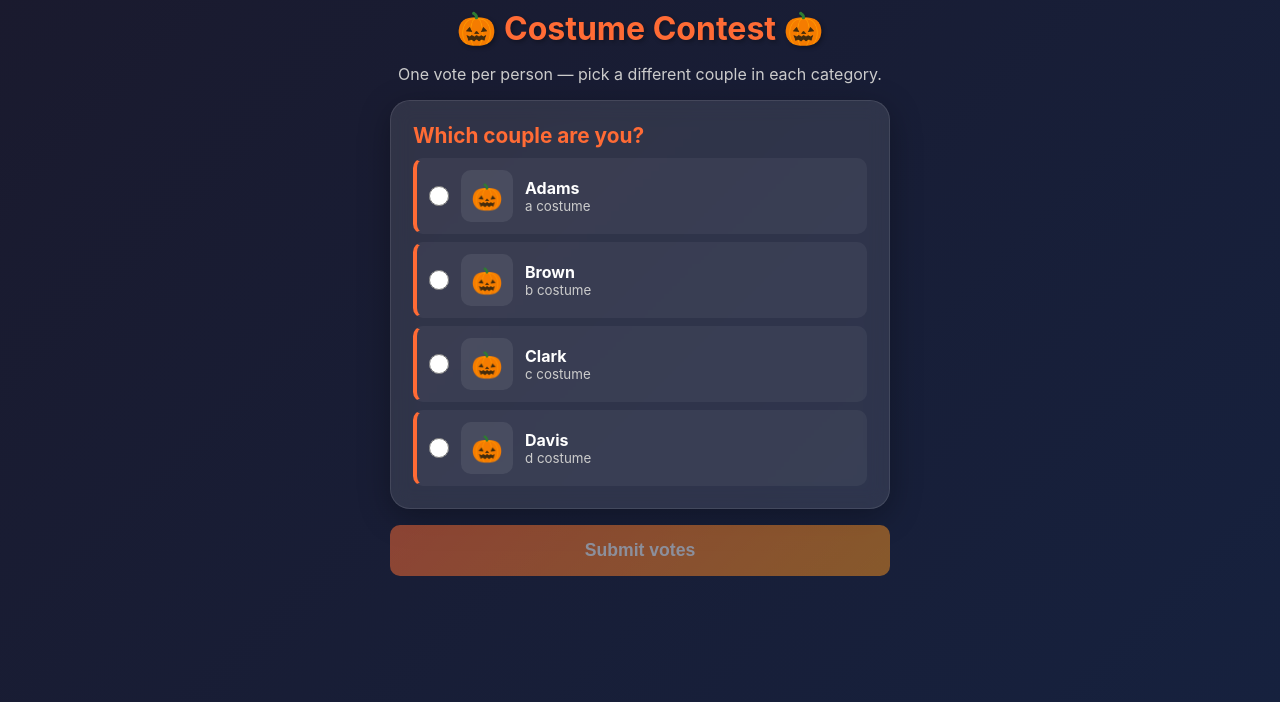
Scenario: Vote form › clears a pick when it is tapped again, freeing the couple elsewhere
The width and height of the screenshot is (1280, 702).
Click the radio button labelled "🎃 Brown b costume" at (439, 280), box [429,270,449,290]
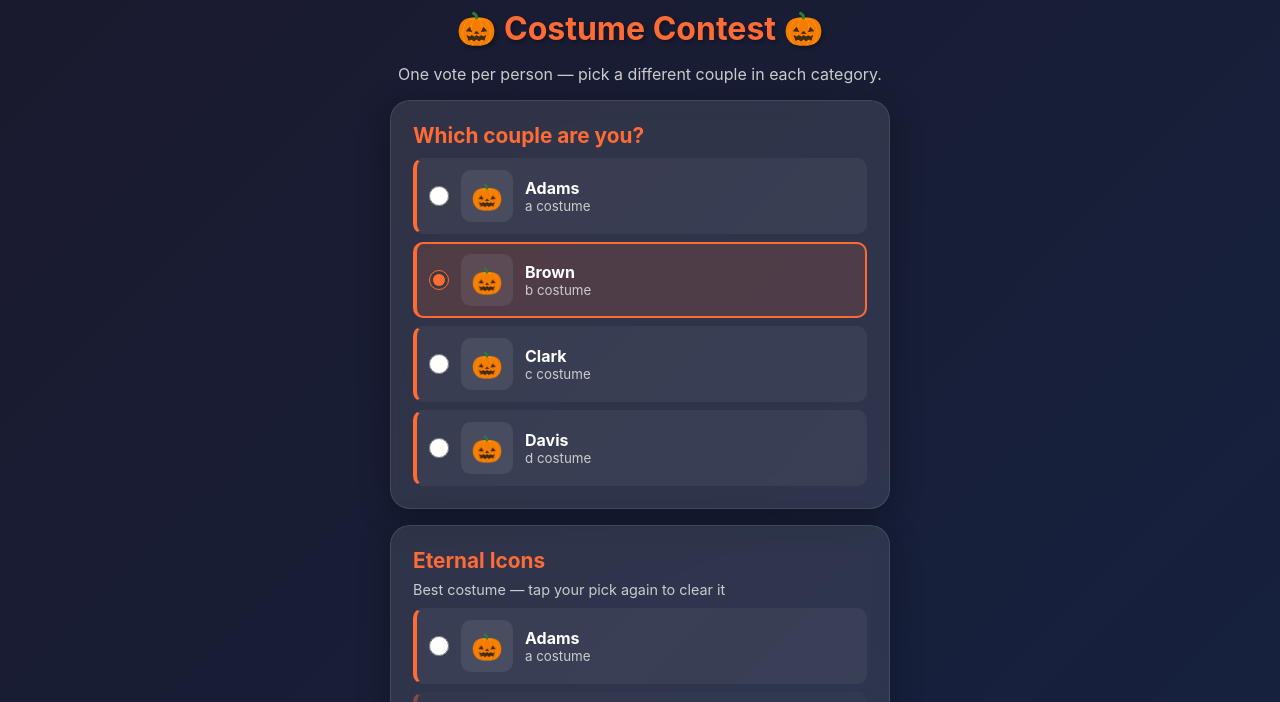
Click the radio button labelled "🎃 Adams a costume" below "Best costume" at (439, 646), box [429,636,449,656]
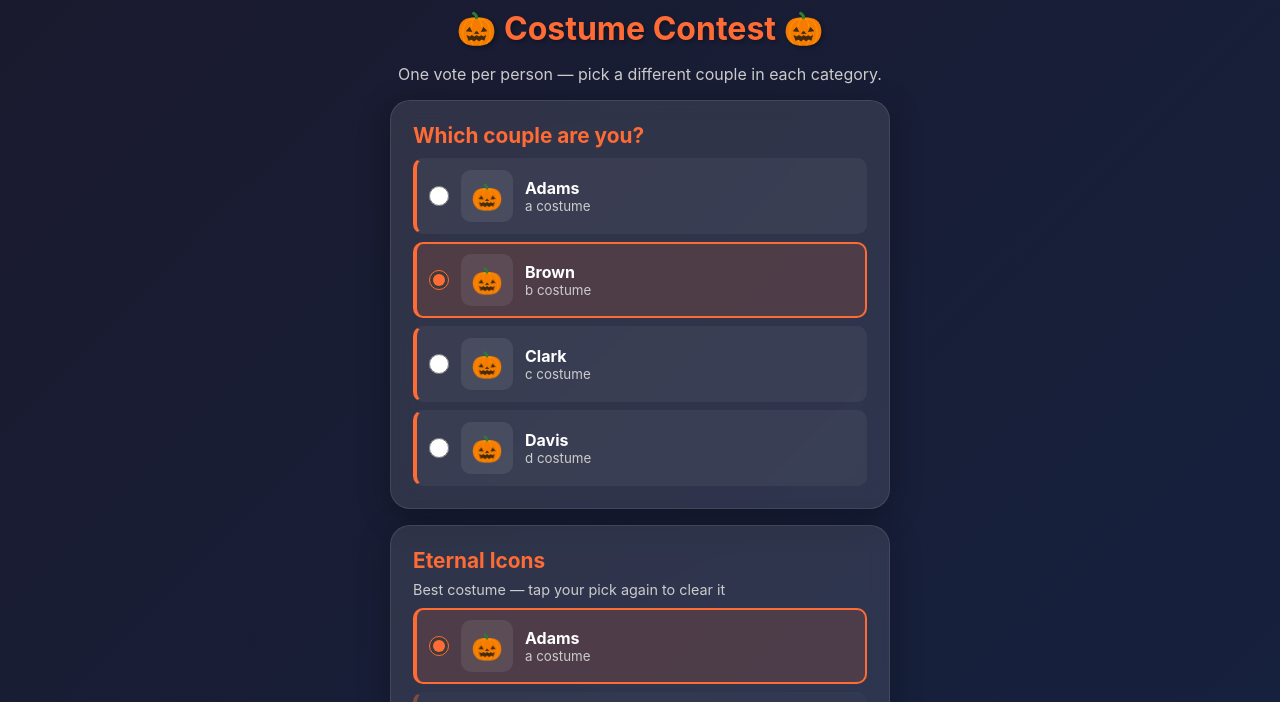
Click the radio button labelled "🎃 Adams a costume" below "Best costume" at (439, 646), box [429,636,449,656]
(page scrolled)
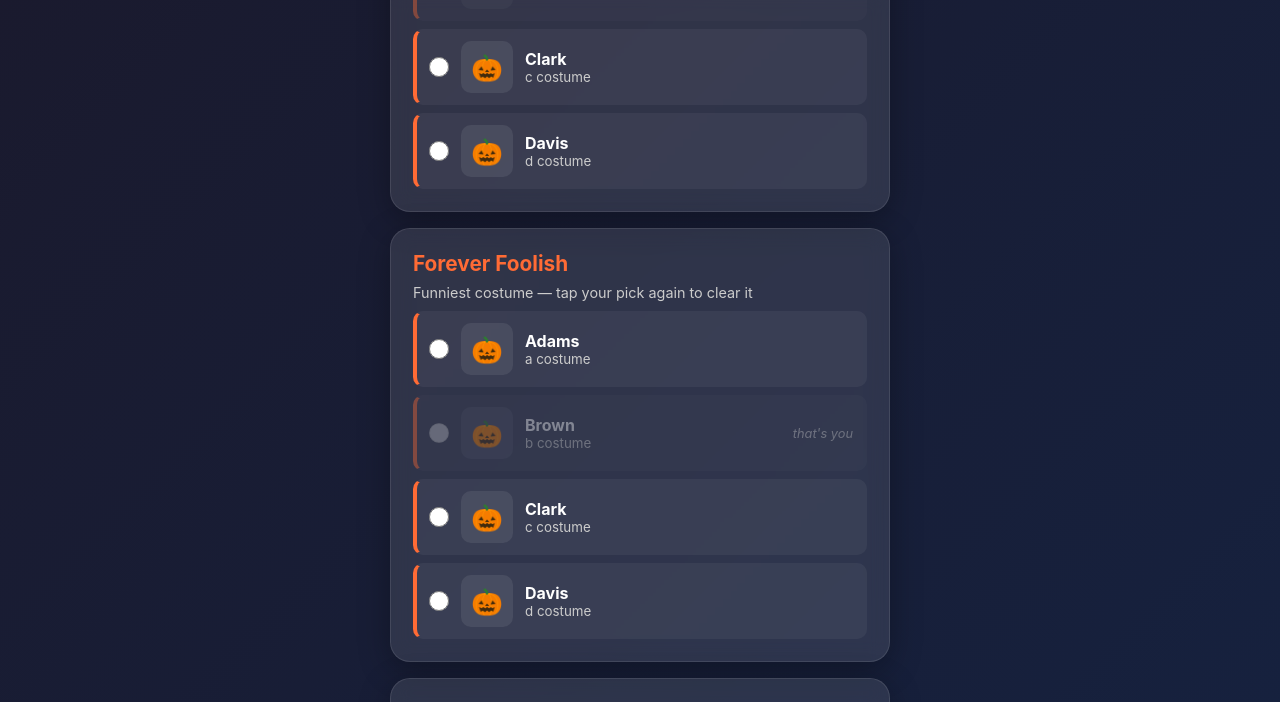
Check: the radio button labelled "🎃 Adams a costume" is enabled, box [429,339,449,359]
